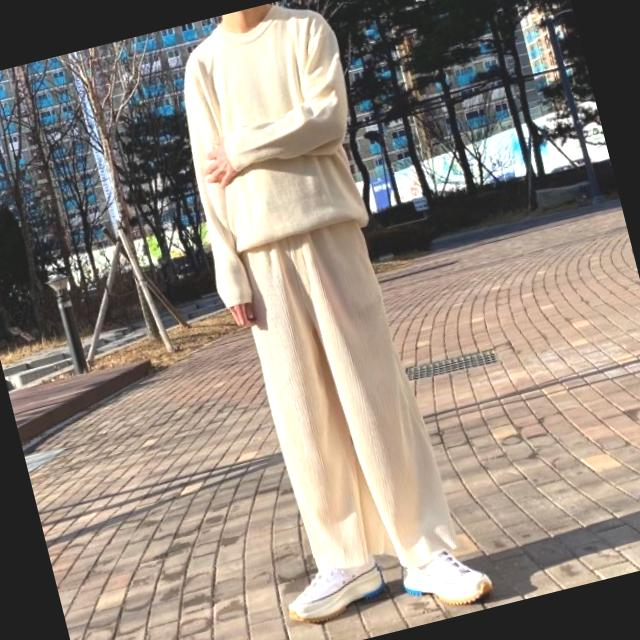mtm: (156, 1, 391, 314)
trainingpants: (228, 206, 460, 591)
